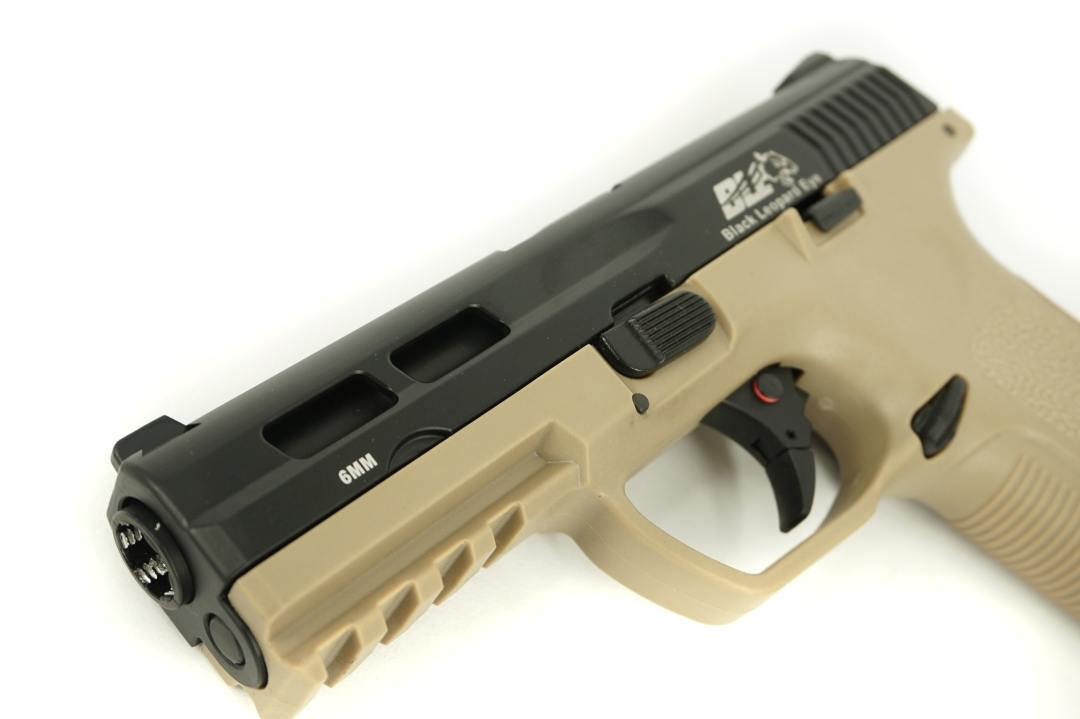asg_ics_ble_xae: (86, 39, 1080, 719)
